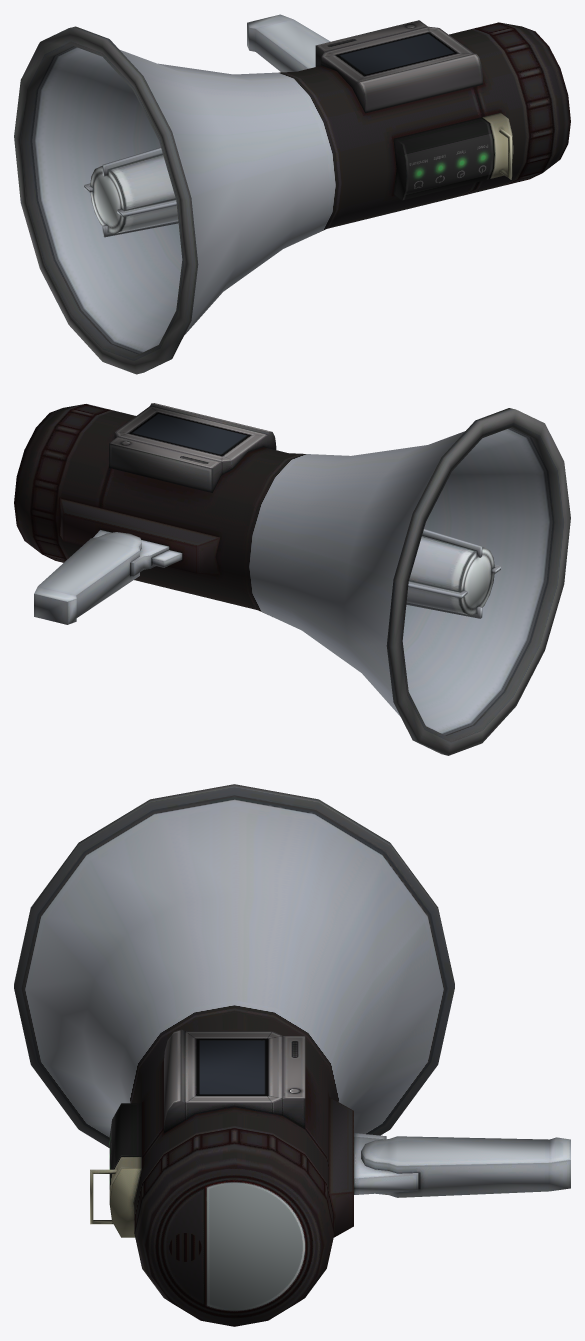
File: HackingGun.obj
3 views of the same model, one above another, from view 1: azimuth 30°, elevation 25°; view 2: azimuth 150°, elevation 25°; view 3: azimuth 270°, elevation 25° (orthographic). The views are drawn at different scales.
Visible parts, largest first — view 1: Mesh_0055.rip.003; view 2: Mesh_0055.rip.003; view 3: Mesh_0055.rip.003.
Boxes of the visible parts, box(x1,y1,x2,y2) form: Mesh_0055.rip.003: box(14, 14, 570, 374); Mesh_0055.rip.003: box(14, 403, 570, 755); Mesh_0055.rip.003: box(14, 784, 570, 1326).
Size of the model in its own units: 0.2558 by 0.1813 by 0.229.
Materials: 1 (1 with a texture image).
